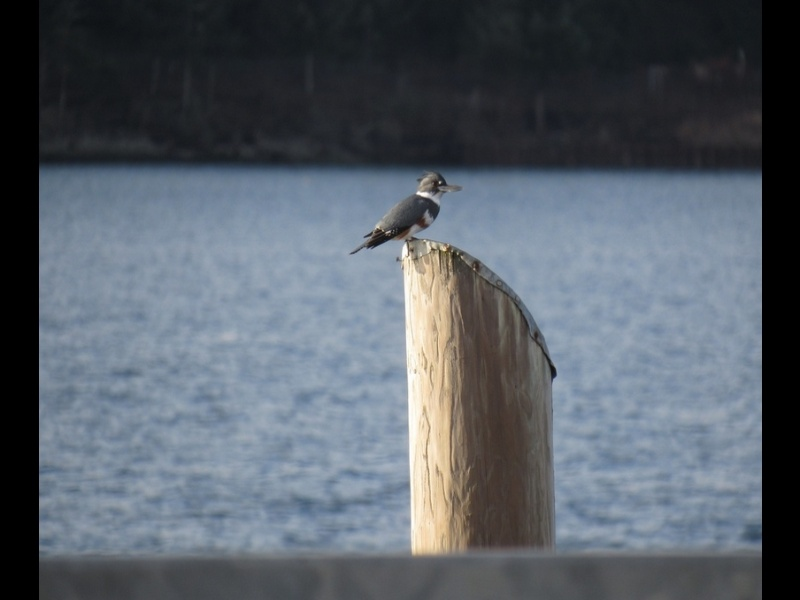kingfisher: (351, 168, 463, 258)
